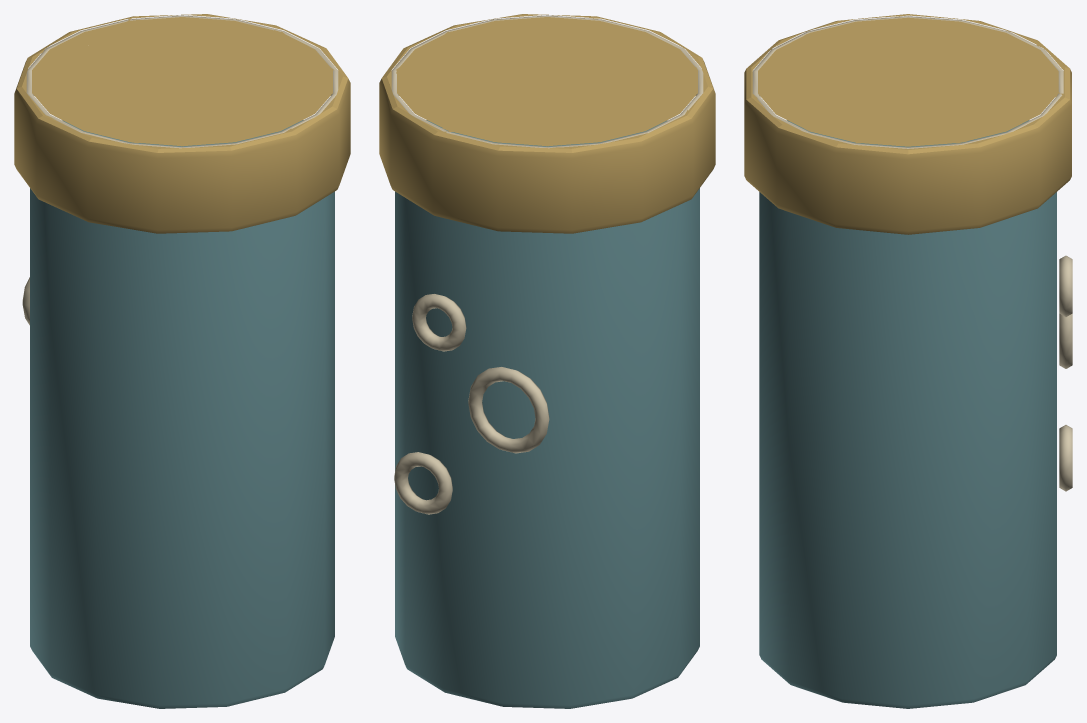
The model's file is bubbles.glb.
3 renders of one model, left to right at view 1: azimuth 30°, elevation 25°; view 2: azimuth 150°, elevation 25°; view 3: azimuth 270°, elevation 25°, orthographic.
Size of the model in its own units: 0.13 by 0.241 by 0.127.
